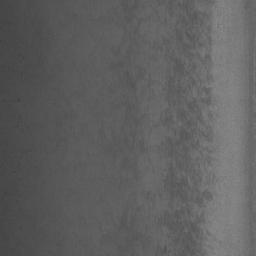Silk spot: (106, 0, 226, 256)
